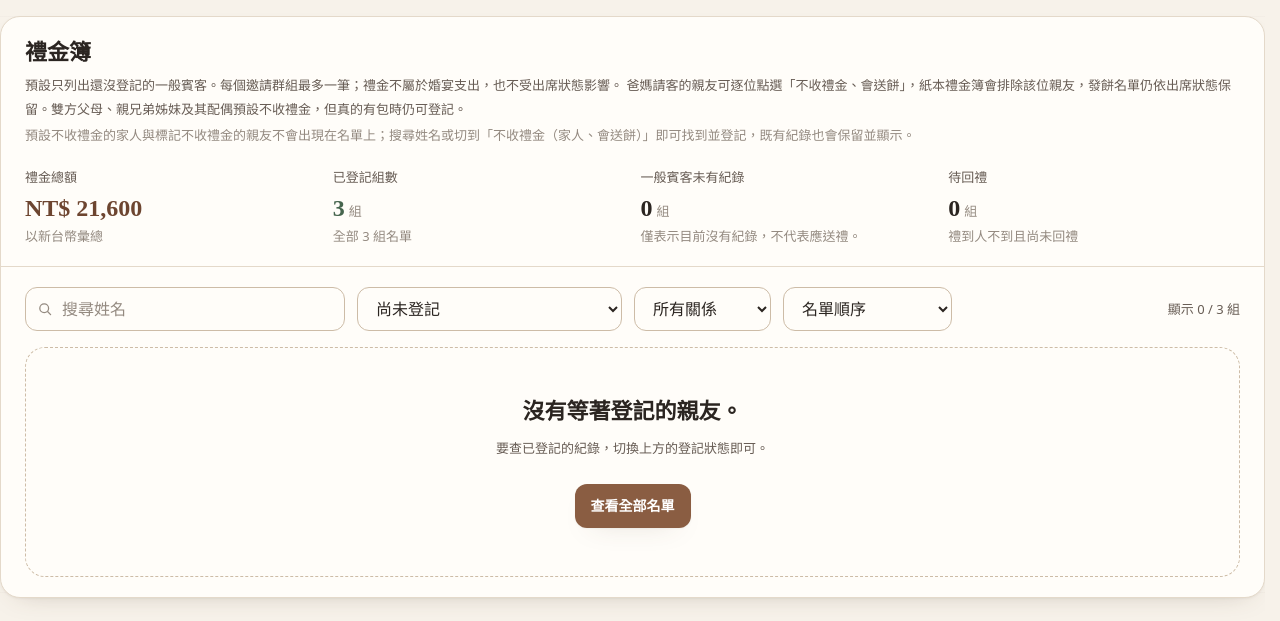
WeddingGiftBook › does not mistake attending or undecided guests awaiting check-in for absentees
Select "禮到人不到" in the dropdown named "禮金登記狀態篩選". click: (490, 310)
box: [357, 288, 622, 332]
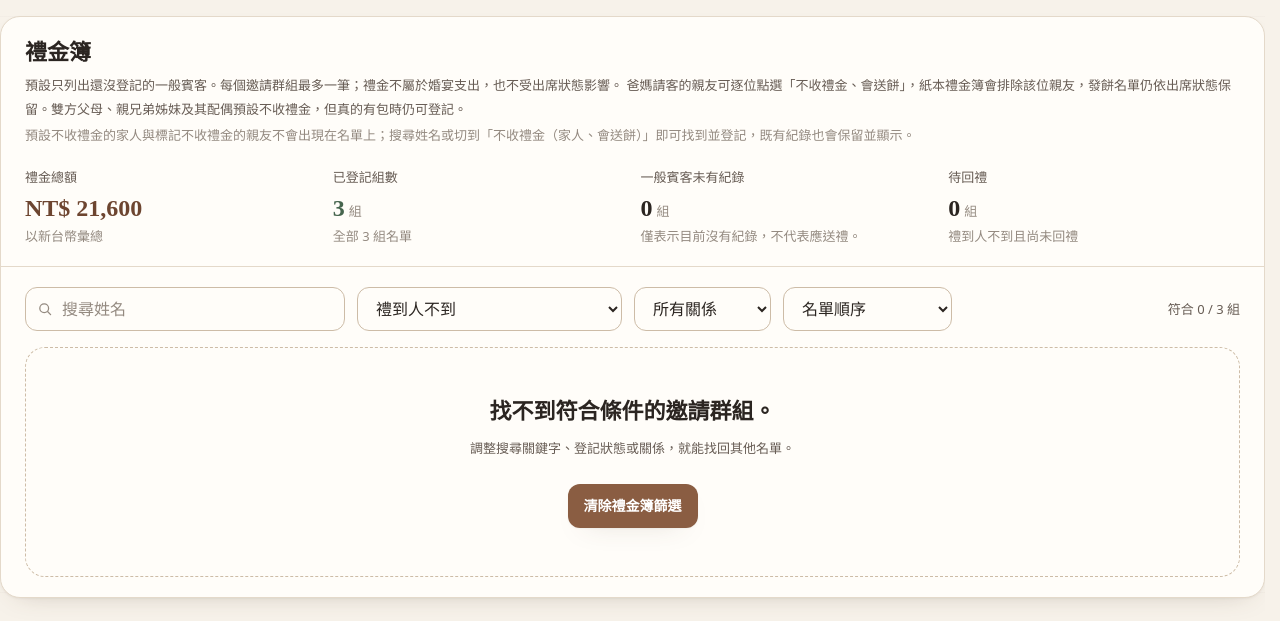
Now the text "找不到符合條件的邀請群組。" is shown, box [490, 400, 776, 424]
